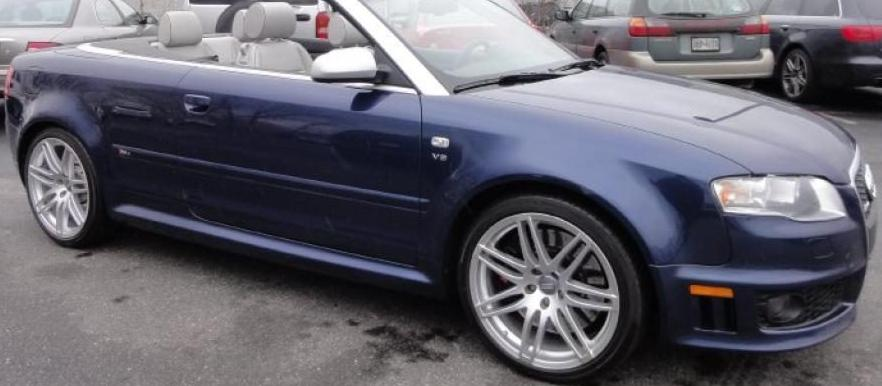front_view: (643, 140, 878, 351)
headlight: (701, 167, 855, 227)
